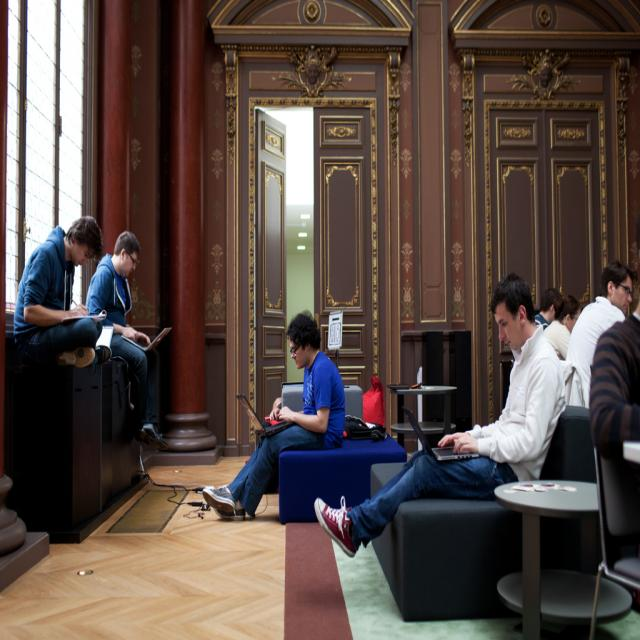chair: (592, 442, 640, 634)
desk: (25, 418, 393, 601)
laptop: (404, 410, 464, 461)
person: (313, 270, 567, 575), (201, 309, 347, 519), (87, 232, 168, 445), (12, 216, 112, 369), (589, 261, 640, 539), (562, 261, 636, 408), (544, 292, 580, 361), (534, 286, 560, 326)
